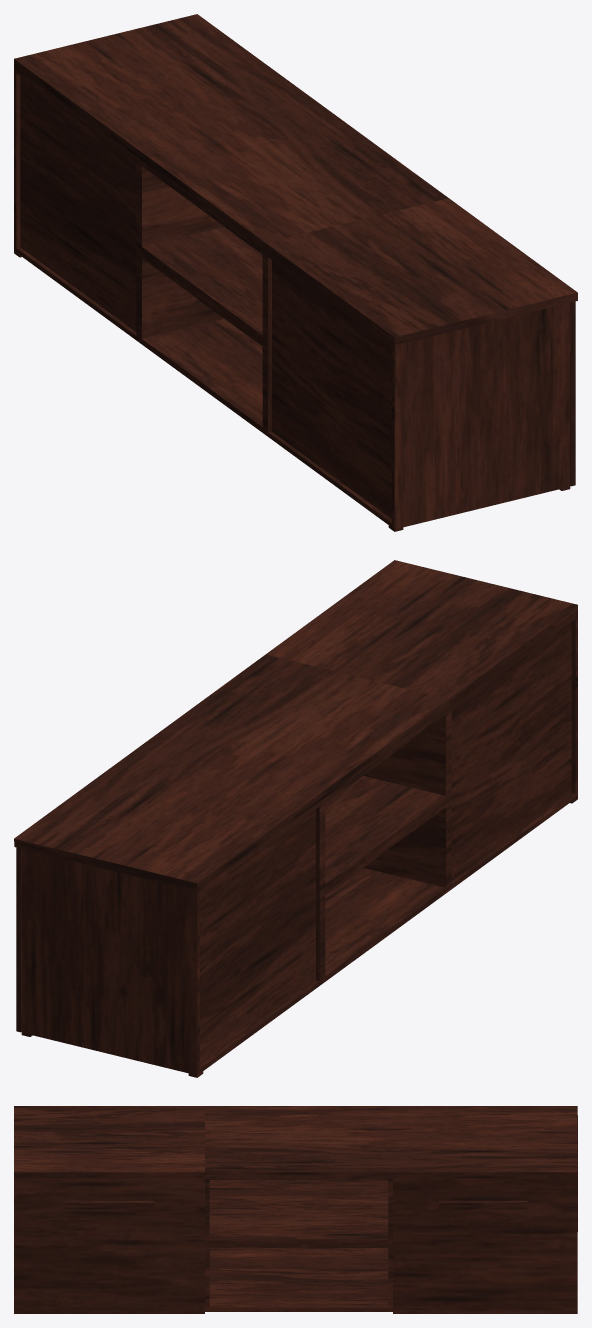
File: TVStand.fbx
The picture shows the model from 3 angles, top to bottom: view 1: azimuth 30°, elevation 25°; view 2: azimuth 150°, elevation 25°; view 3: azimuth 270°, elevation 25°; orthographic projection. The views are drawn at different scales.
Parts seen in each view (by area): view 1: tv_stand_room_Cube.001; view 2: tv_stand_room_Cube.001; view 3: tv_stand_room_Cube.001.
Boxes of the visible parts, box(x1,y1,x2,y2) form: tv_stand_room_Cube.001: box(14, 14, 577, 531); tv_stand_room_Cube.001: box(14, 560, 577, 1077); tv_stand_room_Cube.001: box(14, 1106, 577, 1313).
Bounding box in the file's own units: 43.07 × 42.3 × 150.
1 material, 1 textured.
